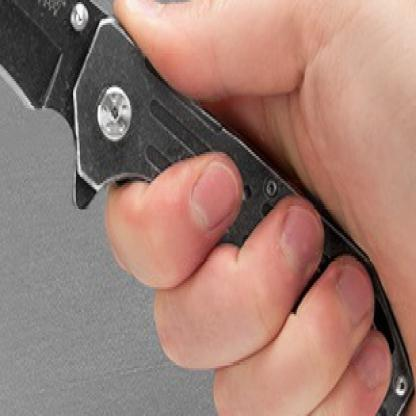knife: (0, 0, 325, 327)
